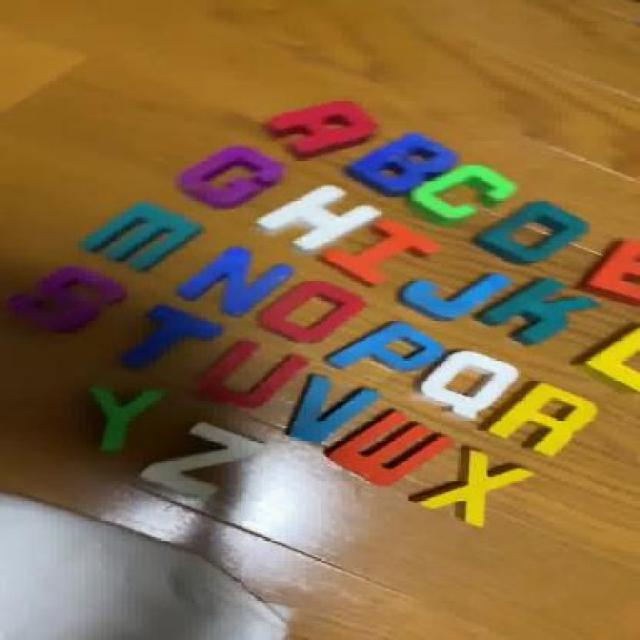A: (268, 96, 375, 152)
B: (346, 134, 460, 192)
C: (405, 165, 524, 222)
D: (476, 204, 592, 262)
G: (172, 147, 278, 211)
H: (258, 187, 379, 253)
I: (318, 220, 436, 288)
J: (404, 266, 504, 322)
K: (478, 278, 596, 340)
M: (80, 201, 205, 268)
N: (180, 248, 288, 317)
O: (262, 280, 366, 342)
P: (328, 320, 435, 380)
Q: (427, 351, 516, 422)
R: (491, 384, 598, 454)
S: (10, 263, 136, 337)
T: (115, 307, 216, 370)
U: (201, 341, 307, 408)
V: (284, 372, 382, 451)
W: (322, 412, 446, 488)
X: (427, 451, 533, 523)
Y: (87, 388, 159, 452)
Z: (139, 422, 264, 500)
